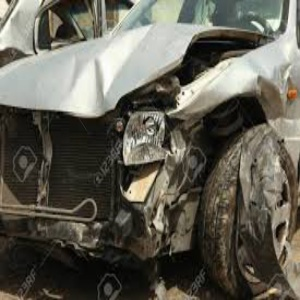bonnet: (70, 25, 203, 112)
bumper: (66, 122, 196, 252)
